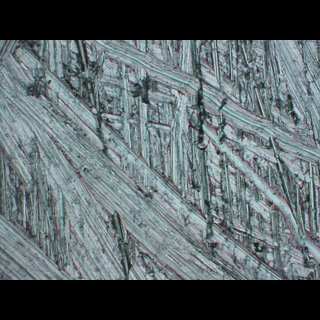d: (0, 42, 317, 279)
